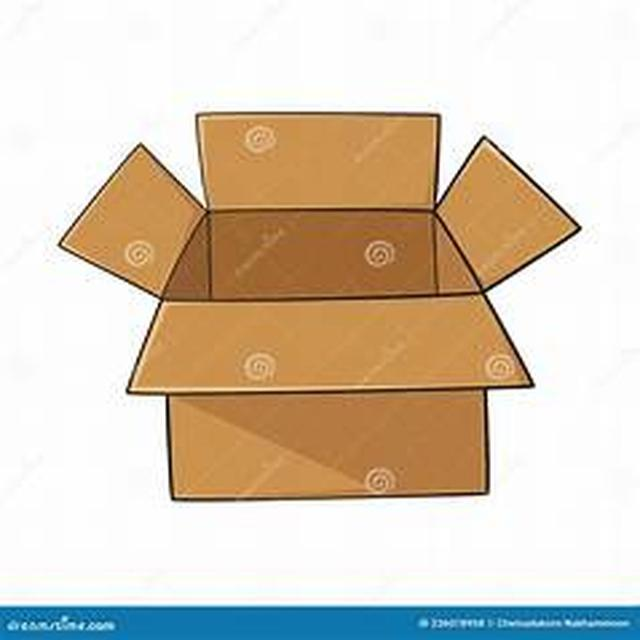box: (48, 75, 558, 524)
